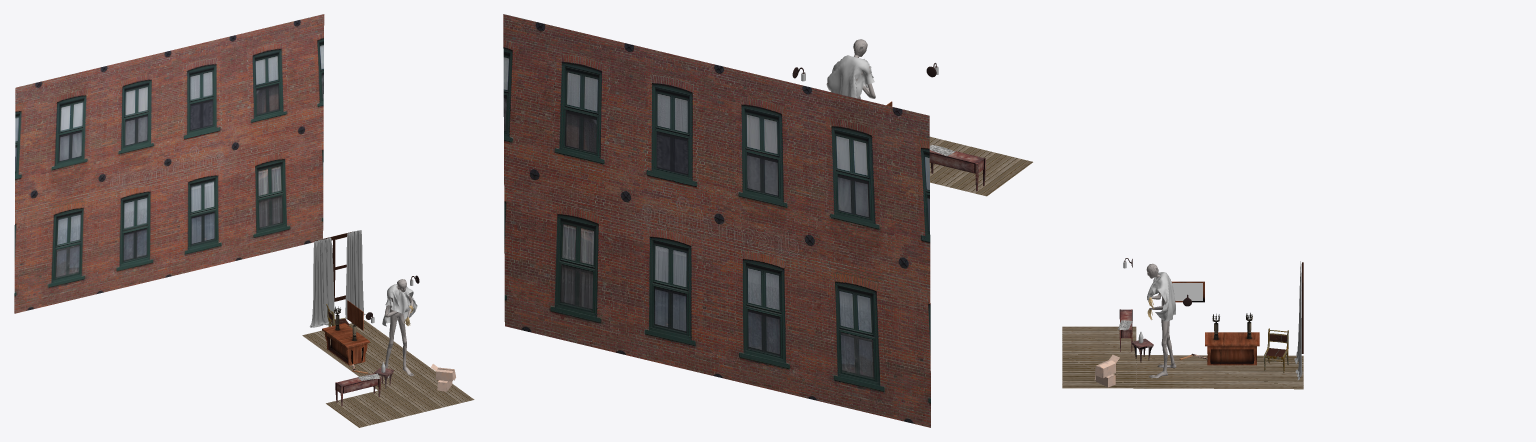
3 renders of one model, left to right at view 1: azimuth 30°, elevation 25°; view 2: azimuth 150°, elevation 25°; view 3: azimuth 270°, elevation 25°, orthographic. The views are drawn at different scales.
Visible parts, largest first — view 1: font_Plane, wall.001_Cube.004, curtain, Candle_Stand_Candle_Stand.001, body_Cylinder, cap_Plane.001, Newspaper.000_Malla.001; view 2: font_Plane, wall.001_Cube.004, cap_Plane.001, Newspaper.000_Malla.001; view 3: wall.001_Cube.004, Candle_Stand_Candle_Stand.001, cap_Plane.001, body_Cylinder, cuadro_Cube, chair_Chair_low_LOD2_Chair_low.002, curtain.
Boxes of the visible parts, x1=… form: font_Plane: x1=14, y1=14, x2=324, y2=313; wall.001_Cube.004: x1=302, y1=320, x2=474, y2=427; curtain: x1=309, y1=230, x2=365, y2=327; Candle_Stand_Candle_Stand.001: x1=322, y1=306, x2=369, y2=365; body_Cylinder: x1=384, y1=286, x2=414, y2=378; cap_Plane.001: x1=382, y1=284, x2=417, y2=326; Newspaper.000_Malla.001: x1=335, y1=373, x2=380, y2=406; font_Plane: x1=503, y1=14, x2=930, y2=427; wall.001_Cube.004: x1=929, y1=136, x2=1032, y2=196; cap_Plane.001: x1=827, y1=55, x2=874, y2=98; Newspaper.000_Malla.001: x1=929, y1=150, x2=985, y2=191; wall.001_Cube.004: x1=1062, y1=326, x2=1303, y2=389; Candle_Stand_Candle_Stand.001: x1=1205, y1=312, x2=1259, y2=365; cap_Plane.001: x1=1147, y1=272, x2=1175, y2=321; body_Cylinder: x1=1147, y1=274, x2=1176, y2=378; cuadro_Cube: x1=1172, y1=281, x2=1204, y2=302; chair_Chair_low_LOD2_Chair_low.002: x1=1264, y1=328, x2=1288, y2=373; curtain: x1=1294, y1=261, x2=1302, y2=380.
Size of what is drawn, in the model's own units: 10.9 by 7.65 by 12.78.
Materials: 19 (9 with a texture image).
